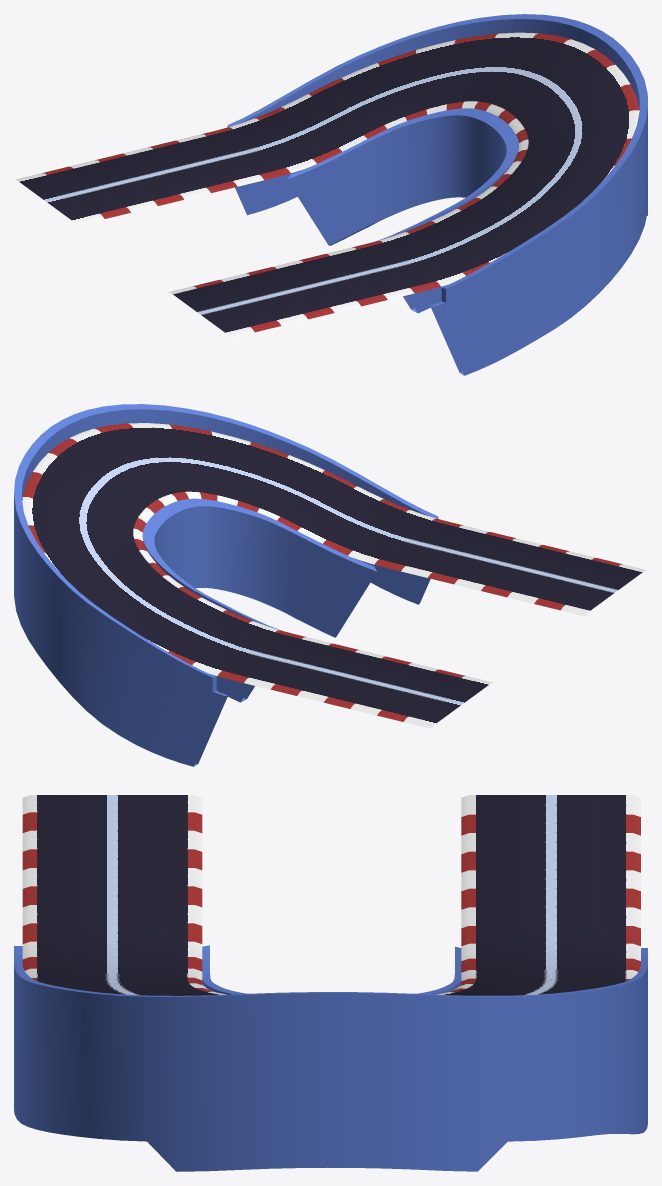
3 views of the same model, one above another, from view 1: azimuth 30°, elevation 25°; view 2: azimuth 150°, elevation 25°; view 3: azimuth 270°, elevation 25° (orthographic). The views are drawn at different scales.
Parts seen in each view (by area): view 1: regular 1 pista, regular 1 complemento; view 2: regular 1 pista, regular 1 complemento; view 3: regular 1 complemento, regular 1 pista.
Boxes of the visible parts, left/top/right/bottom form: regular 1 pista: left=15, top=32, right=639, bottom=338; regular 1 complemento: left=227, top=14, right=647, bottom=375; regular 1 pista: left=22, top=423, right=646, bottom=728; regular 1 complemento: left=14, top=404, right=438, bottom=766; regular 1 complemento: left=14, top=945, right=647, bottom=1171; regular 1 pista: left=22, top=795, right=640, bottom=995.
Size of the model in its own units: 184 by 70.35 by 144.
2 materials, 1 textured.
